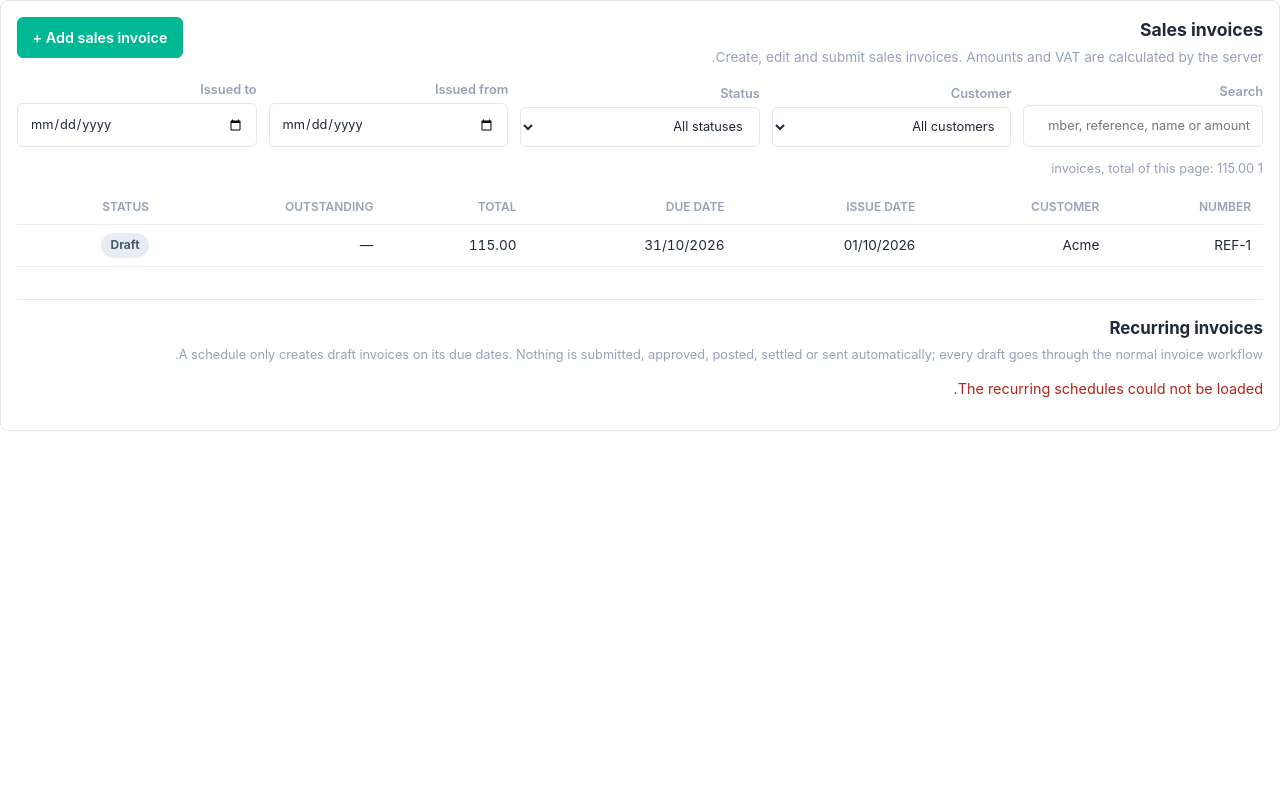
Test case: Sales invoices › lists sales invoices from /api/invoices and shows server totals in the detail
The width and height of the screenshot is (1280, 800).
Click the text "REF-1" at (1187, 245), box [1111,225,1263,266]
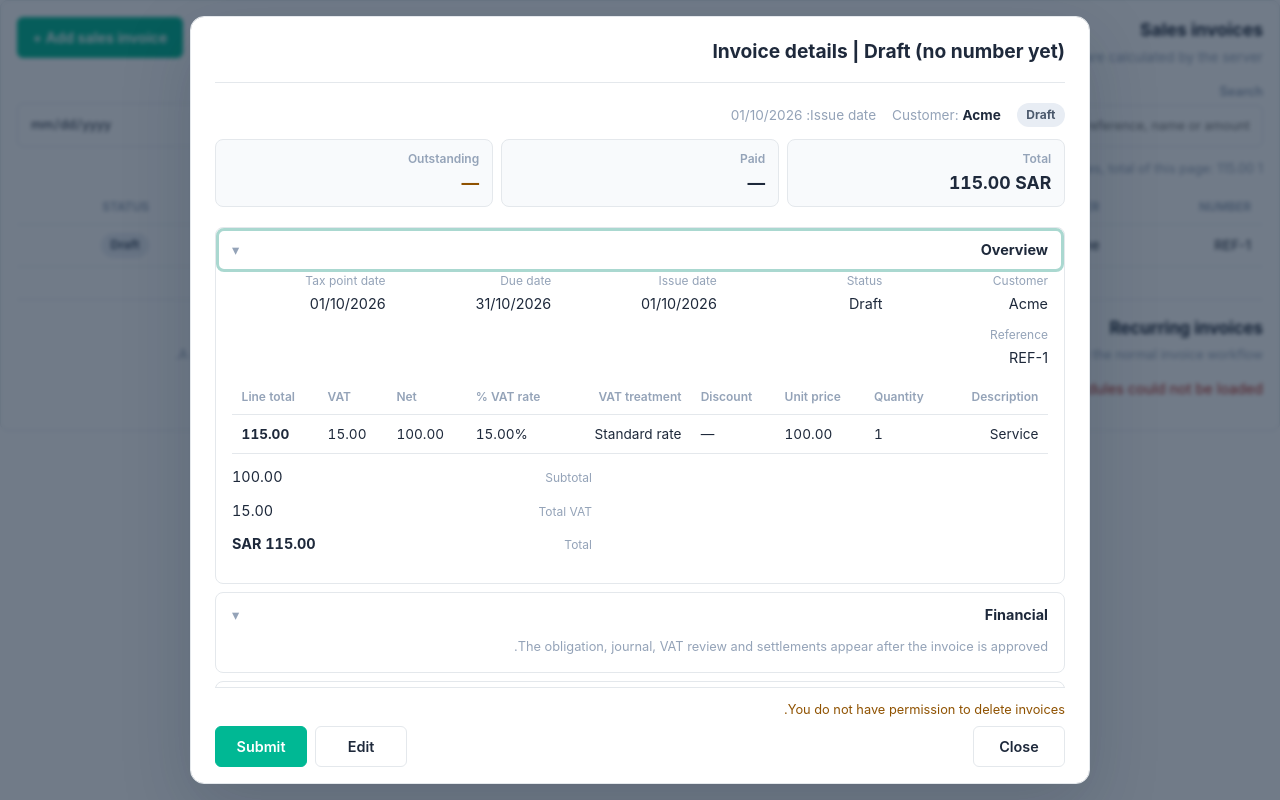
Expected: the dialog is shown
Expected: the text "15.00%" is shown, [466,415,566,454]
